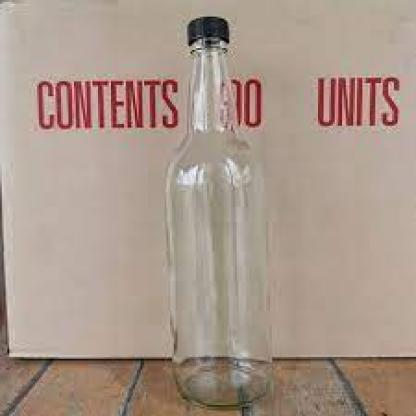Can: (166, 16, 275, 412)
